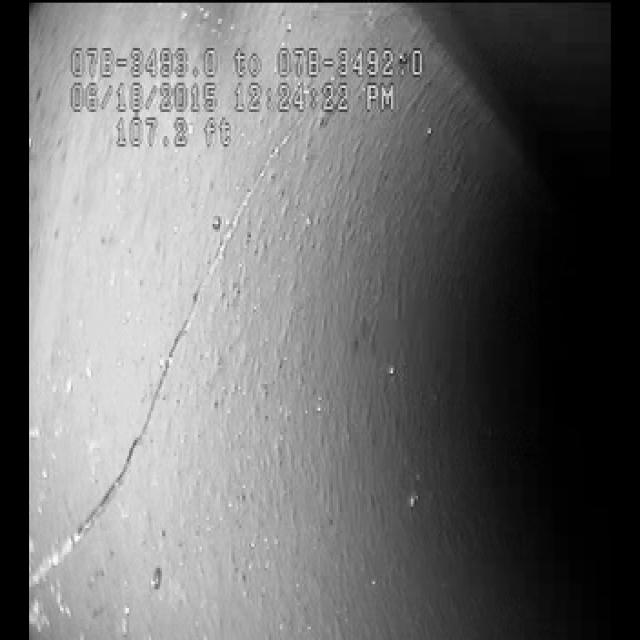Crack: (72, 214, 234, 548)
